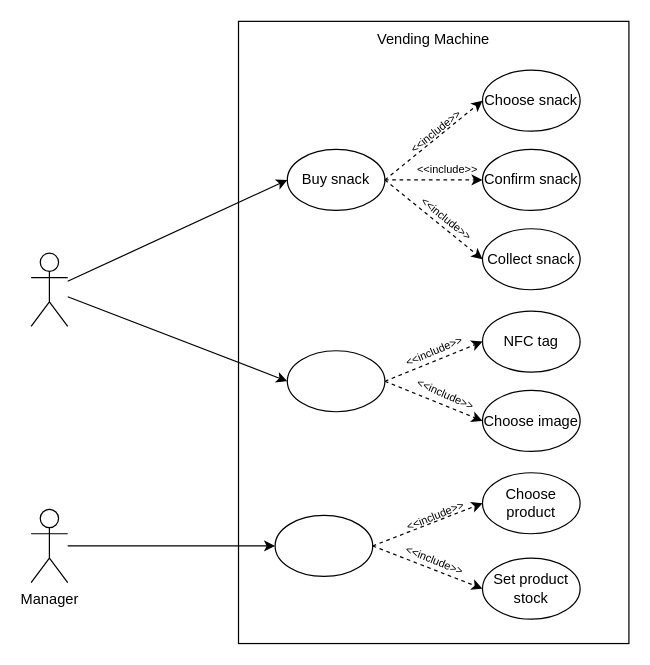
Some shapes in this 650 by 665 pixel diagram are drawn without their labels. Here are the shapes that lost their labels. From the top down, the box of each, then its label:
(30, 252, 68, 326): Child
(286, 350, 385, 412): Authenticate
(274, 514, 373, 576): Update products stock
